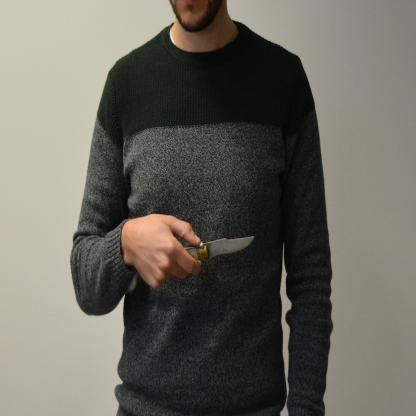knife: (170, 215, 259, 284)
